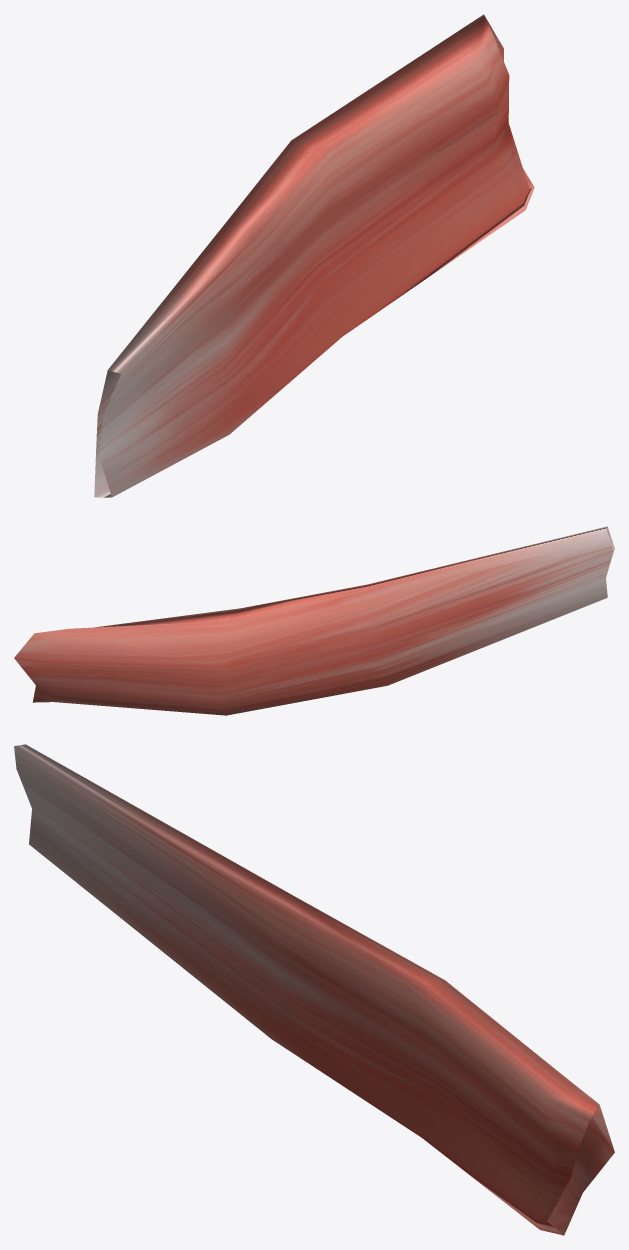
Rendered from Obliqus_Capitis_Inferior_Muscle_Right.obj.
3 views of the same model, one above another, from view 1: azimuth 30°, elevation 25°; view 2: azimuth 150°, elevation 25°; view 3: azimuth 270°, elevation 25° (orthographic). The views are drawn at different scales.
Parts seen in each view (by area): view 1: Thyrohyoid_Muscle_Right:Thyrohyoid_Muscle_Right_Mesh Thyrohyoid_; view 2: Thyrohyoid_Muscle_Right:Thyrohyoid_Muscle_Right_Mesh Thyrohyoid_; view 3: Thyrohyoid_Muscle_Right:Thyrohyoid_Muscle_Right_Mesh Thyrohyoid_.
Part boxes in pixels (x1=…): Thyrohyoid_Muscle_Right:Thyrohyoid_Muscle_Right_Mesh Thyrohyoid_: x1=94, y1=14, x2=534, y2=497; Thyrohyoid_Muscle_Right:Thyrohyoid_Muscle_Right_Mesh Thyrohyoid_: x1=14, y1=526, x2=614, y2=715; Thyrohyoid_Muscle_Right:Thyrohyoid_Muscle_Right_Mesh Thyrohyoid_: x1=14, y1=744, x2=614, y2=1235.
Bounding box in the file's own units: 0.3702 × 0.1287 × 0.3212.
